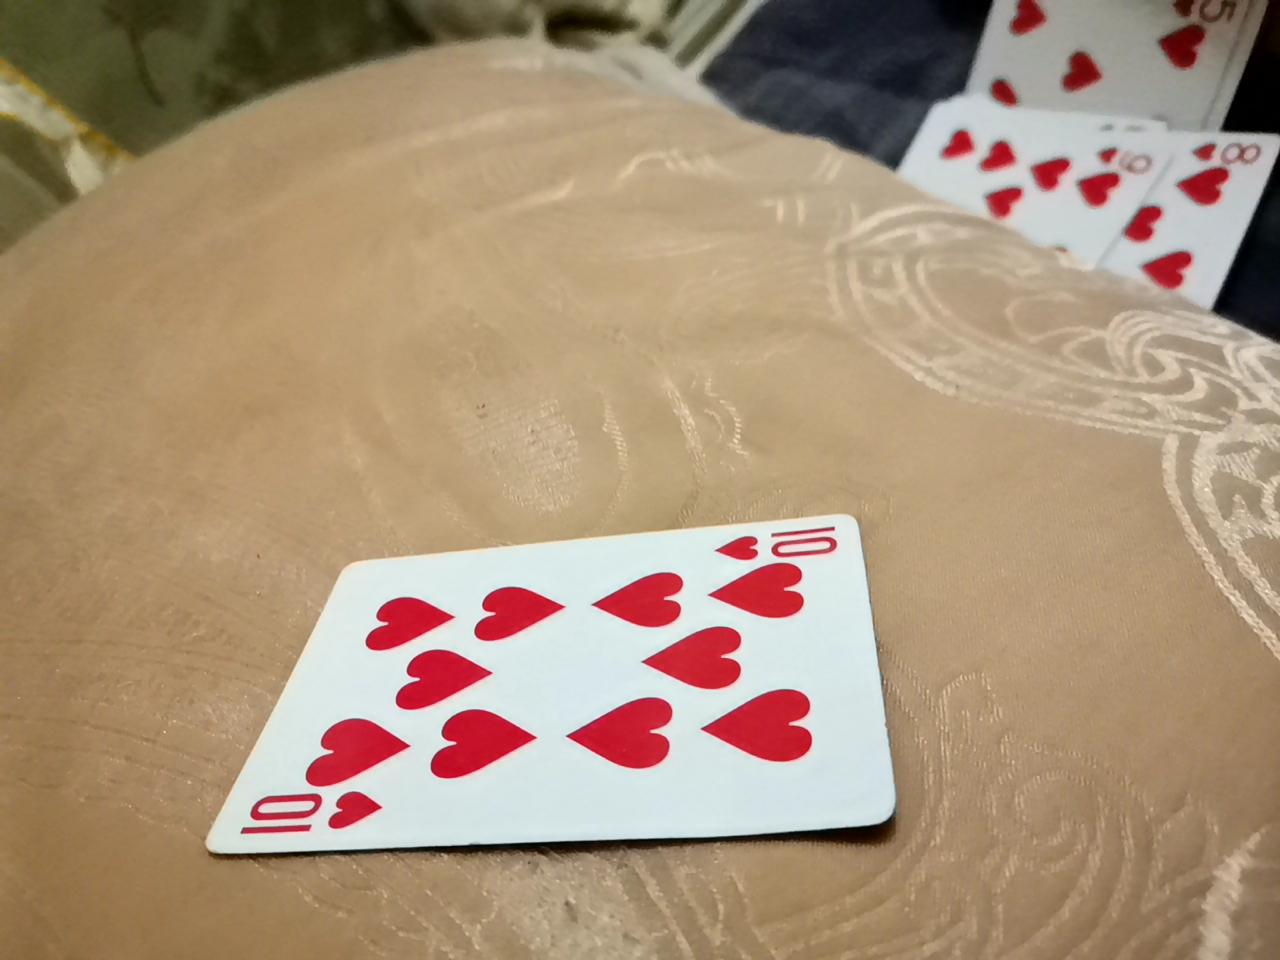hx 10: (226, 469, 901, 815)
